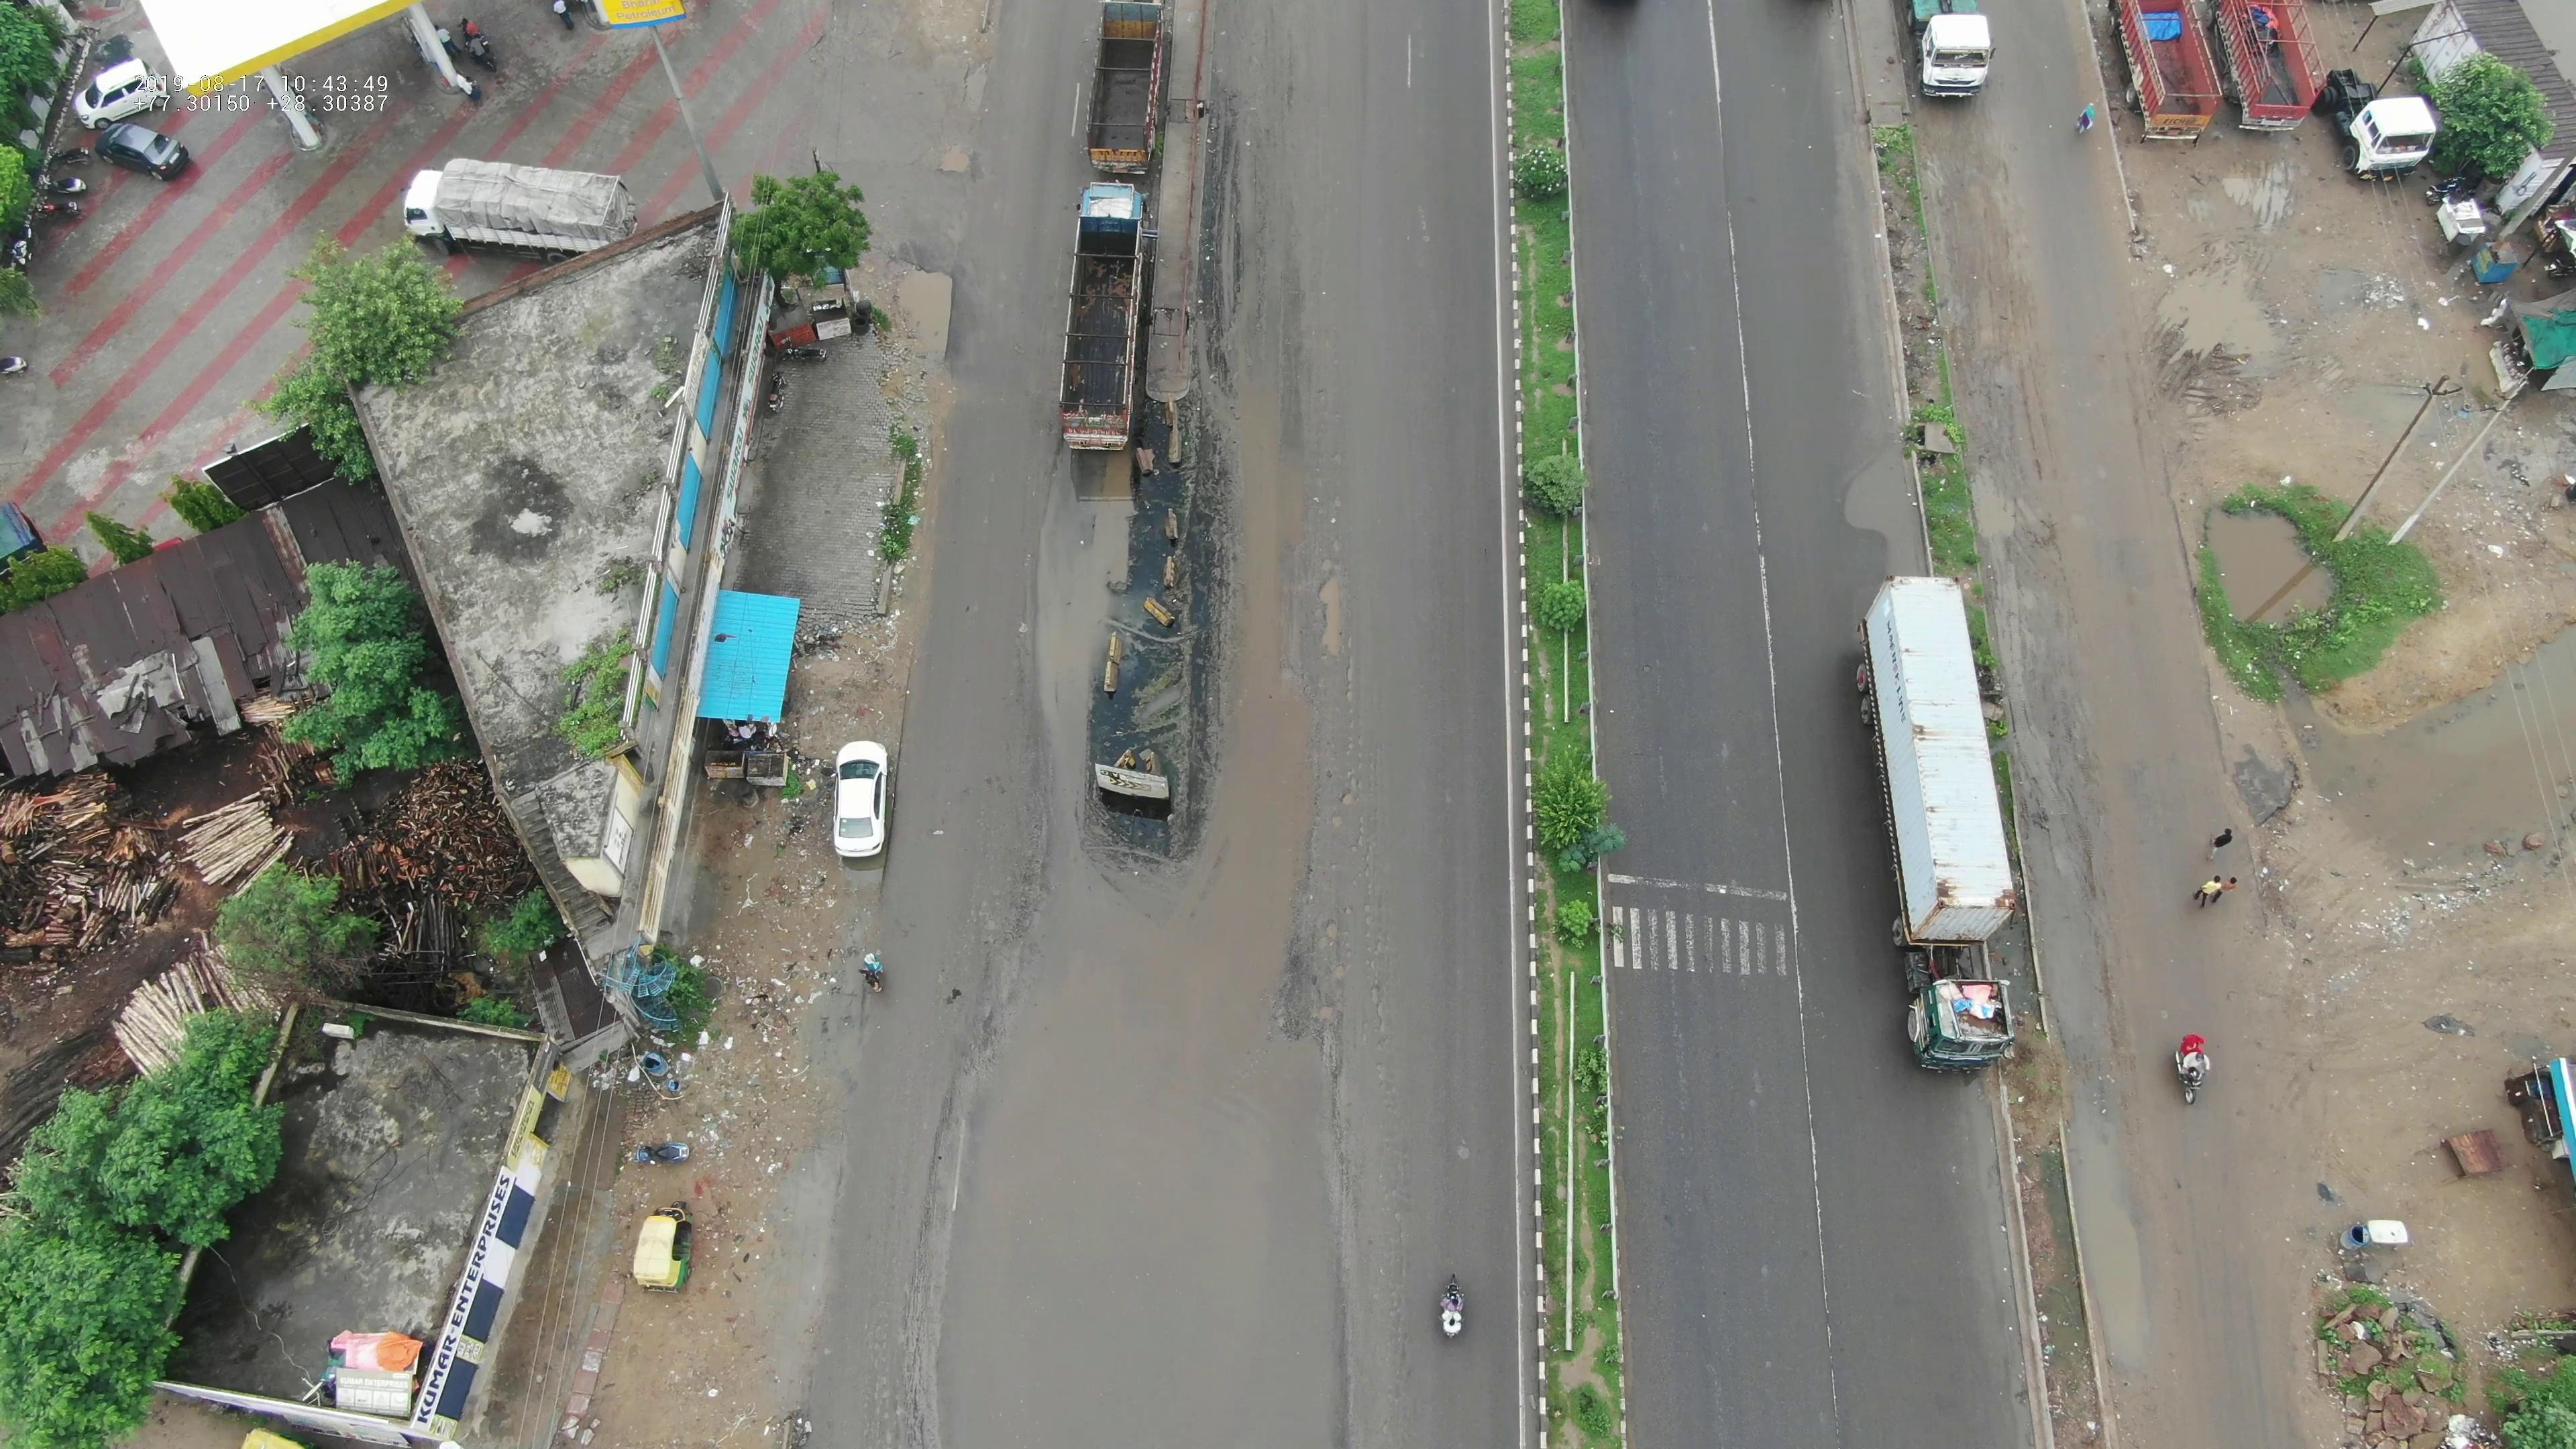Muddy_road: (1955, 225, 2052, 501), (1214, 87, 1290, 421)
Potholes: (1315, 800, 1417, 1070), (1295, 467, 1380, 725), (1380, 1171, 1445, 1430), (865, 1221, 932, 1445)
Waterlogging: (934, 800, 1334, 1430)
